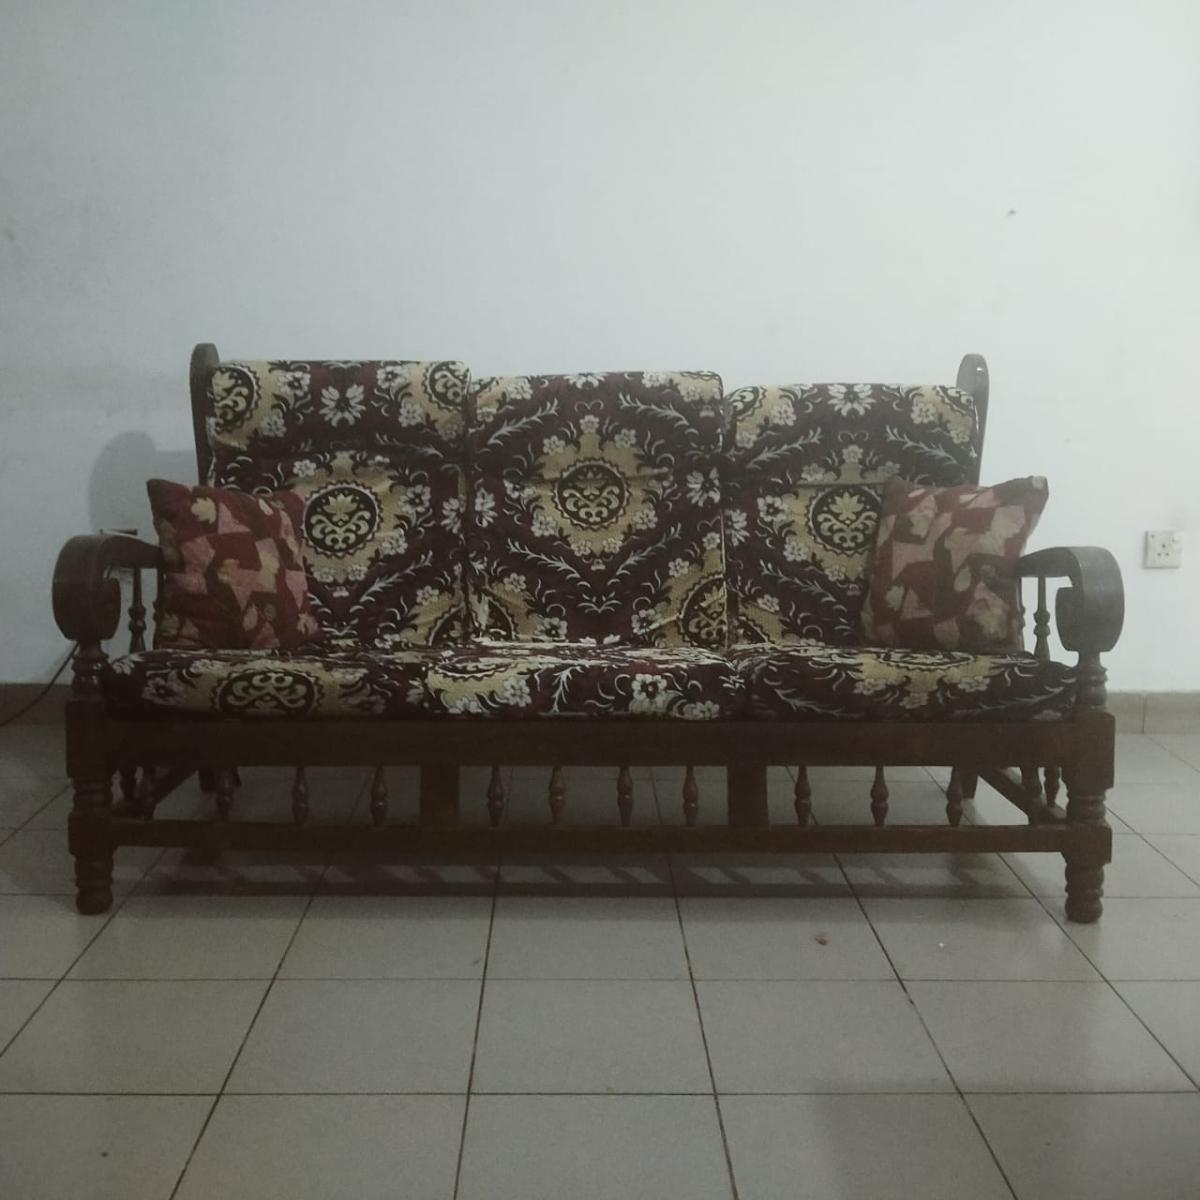Sofa: (48, 343, 1117, 925)
